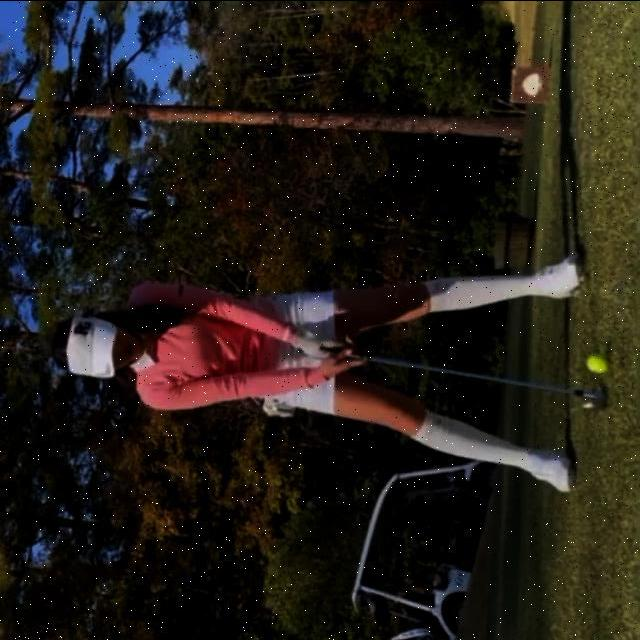golf ball: (585, 352, 609, 373)
golf club-handle: (293, 347, 608, 409)
golf club-head: (581, 384, 608, 408)
